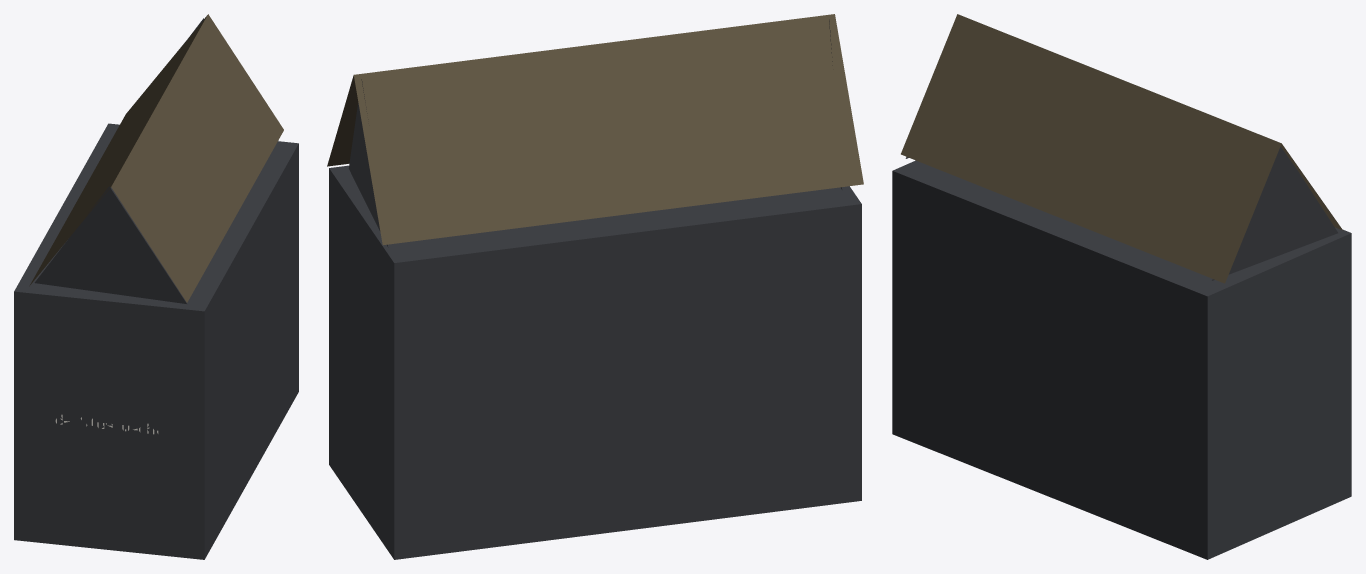
Rendered from sluyswacht.lod2.glb.
3 renders of one model, left to right at view 1: azimuth 30°, elevation 25°; view 2: azimuth 150°, elevation 25°; view 3: azimuth 270°, elevation 25°, orthographic. The views are drawn at different scales.
Parts seen in each view (by area): view 1: lod2; view 2: lod2; view 3: lod2.
Part boxes in pixels (x1,y1,x2,y2): lod2: [14, 14, 298, 559]; lod2: [327, 14, 863, 559]; lod2: [892, 14, 1351, 559].
Size of the model in its own units: 10.62 by 10.16 by 10.9.
